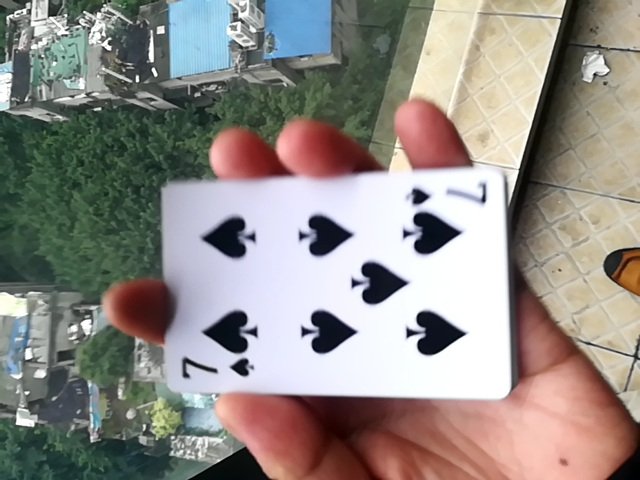ht 7: (145, 161, 509, 410)
